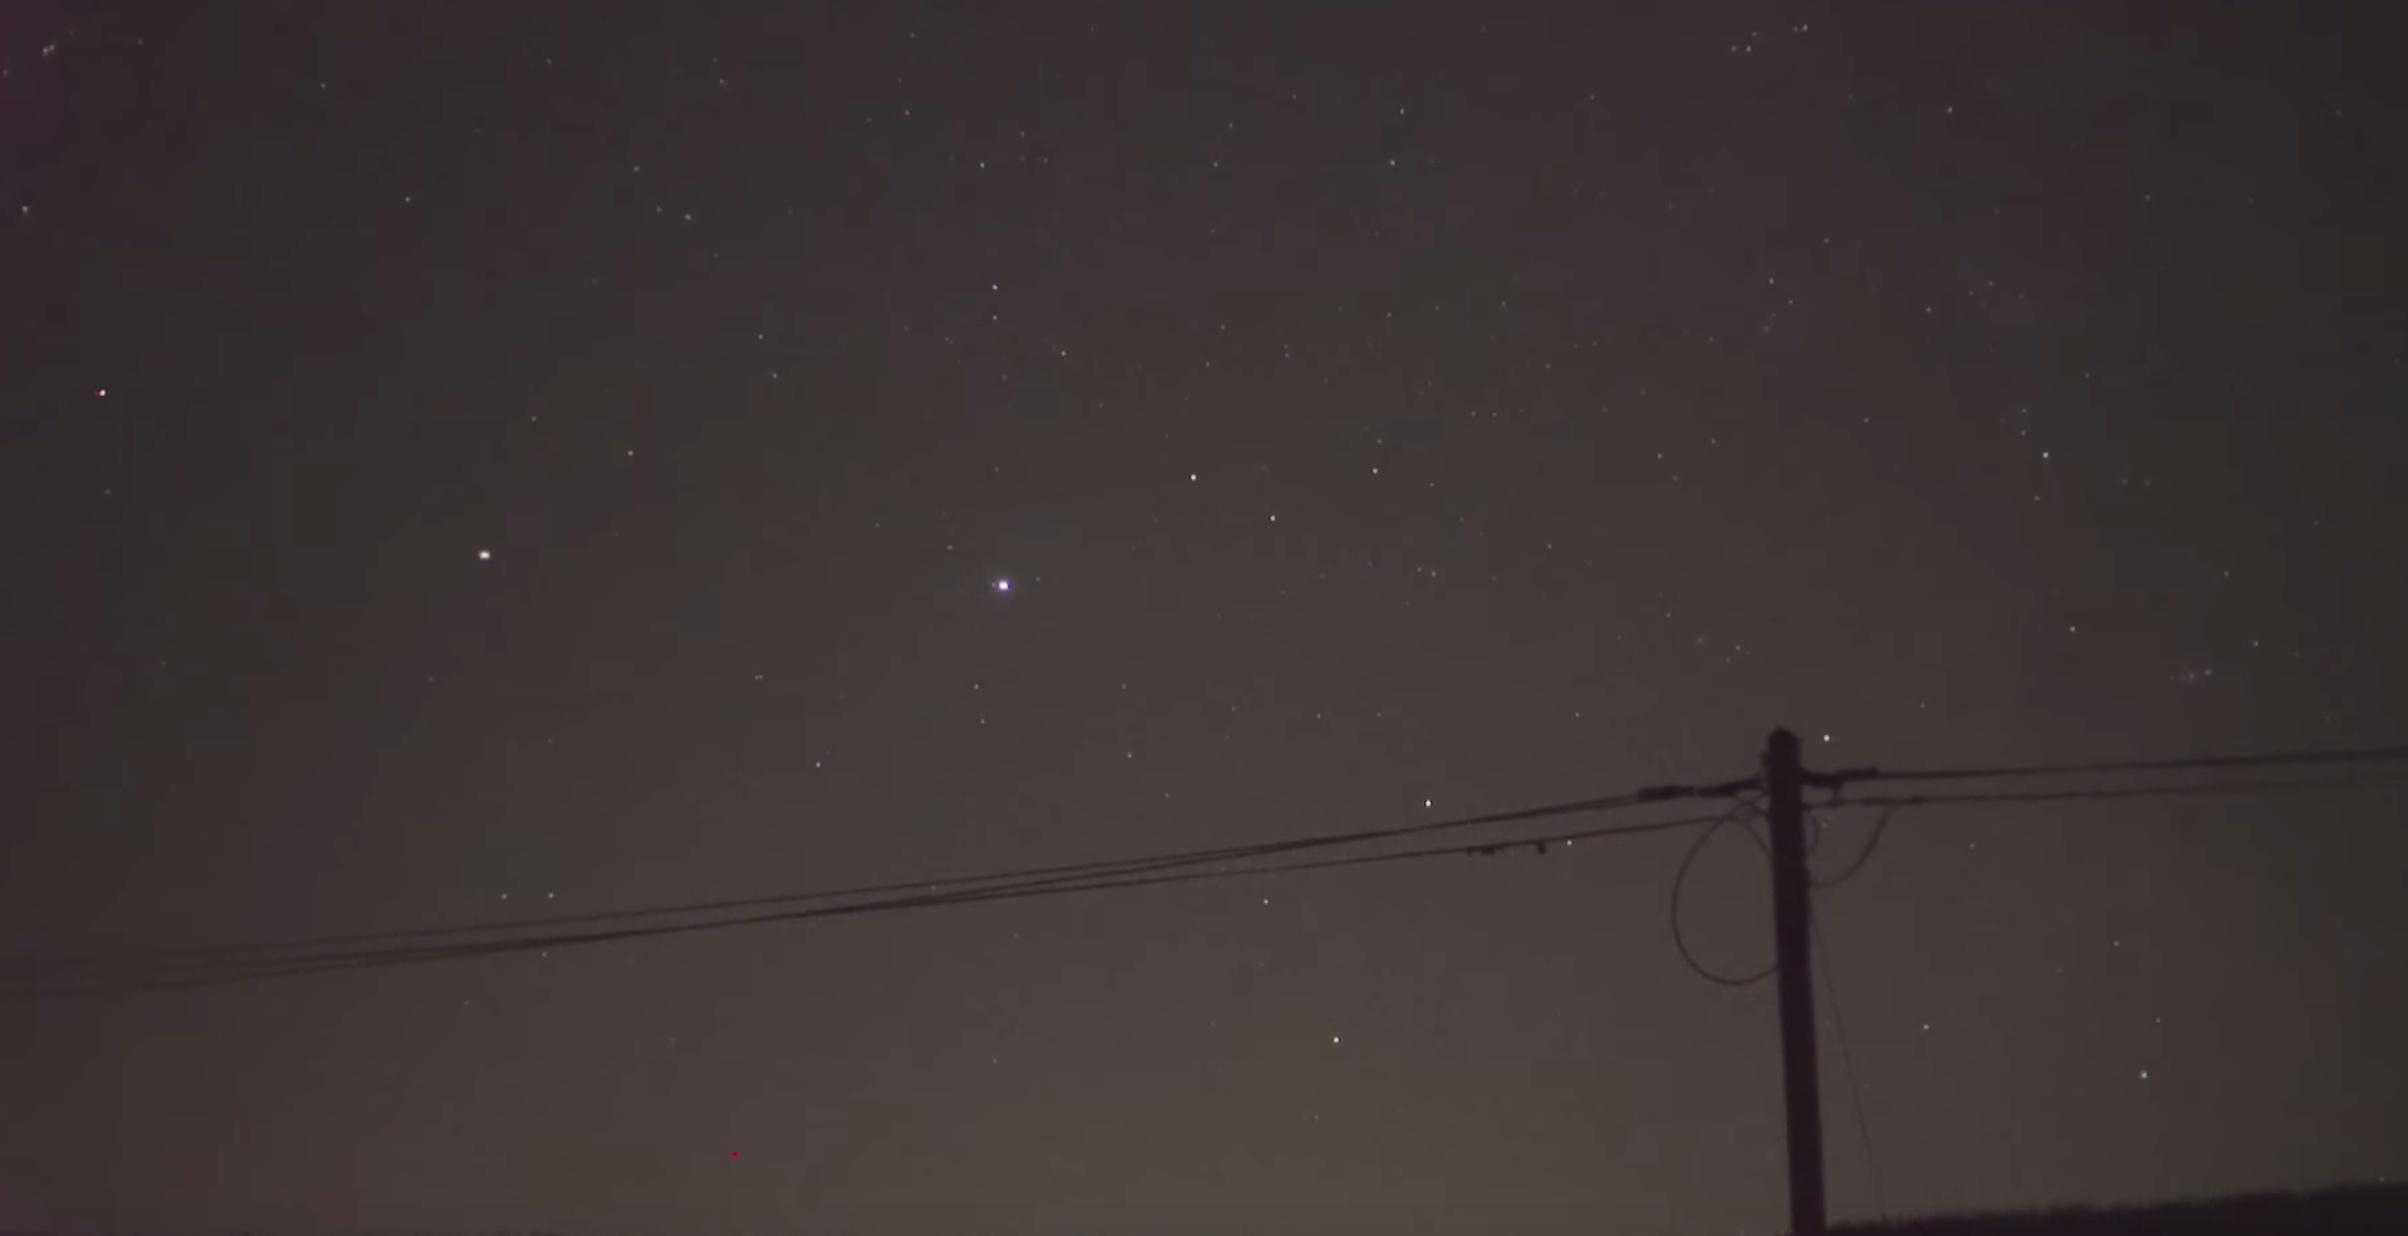Plane: (72, 382, 121, 399)
